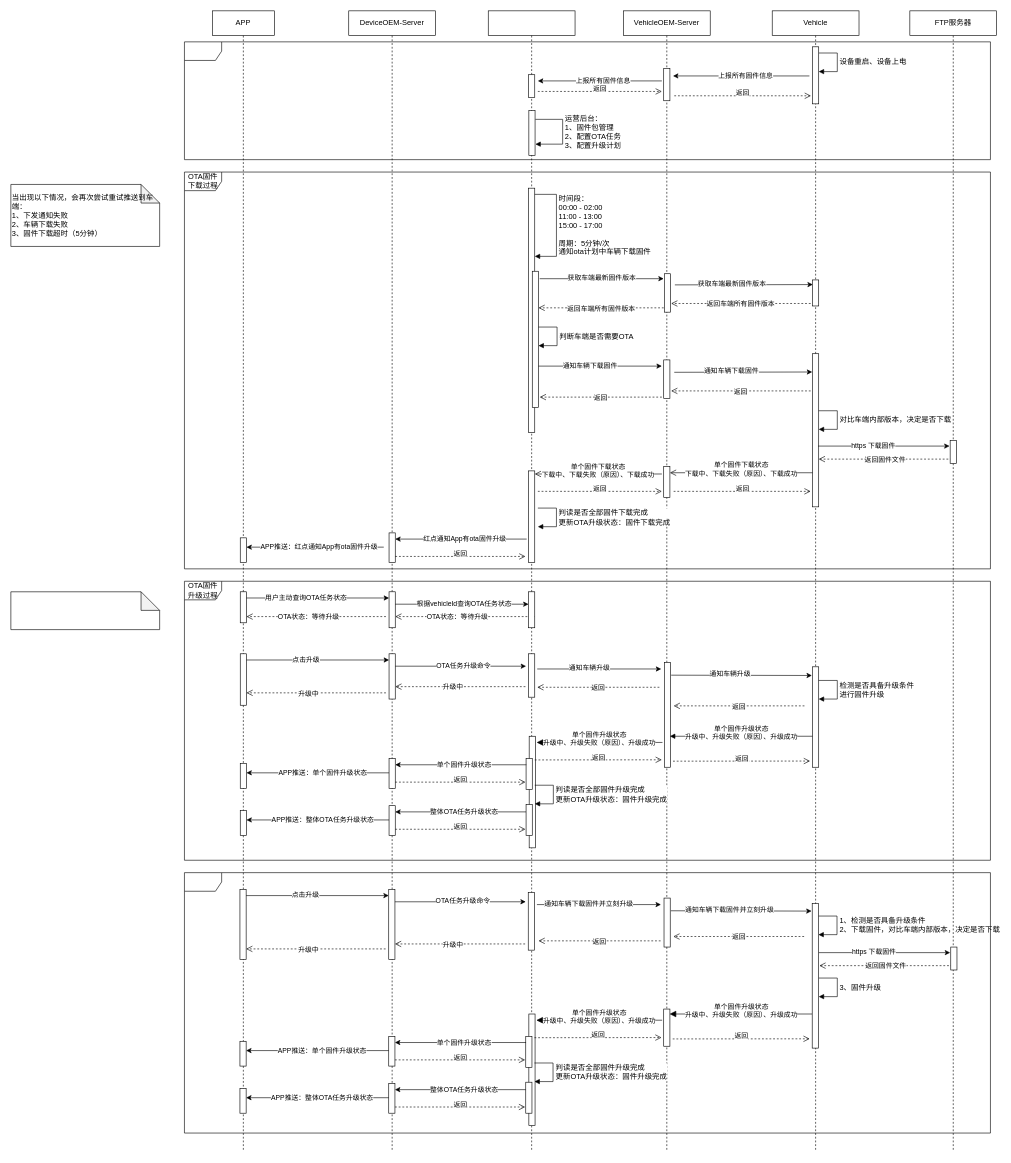
Image size: 1011x1163. Some labels were removed from this diagram. Here are the shapes that lost their labels. From the top down, the centre of each, then its label:
At pixel 587 100: "OTA升级准备过程".
At pixel 531 581: "OTA-Server".
At pixel 85 610: "固件升级失败，则终止任务 允许用户手动重试升级，进入失败重试流程".
At pixel 587 1002: "OTA升级失败重试".
